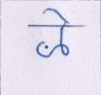o_matra: (55, 8, 70, 57)
